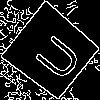U: (25, 26, 84, 84)
